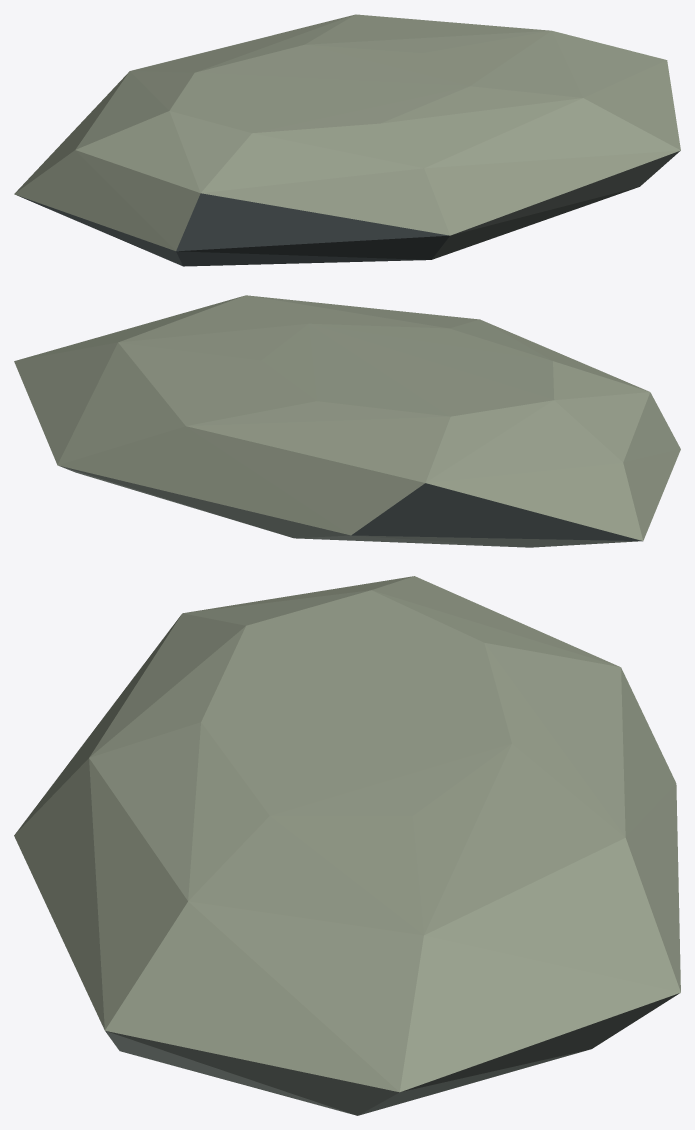
File: TW_ROCK_FLAT_SLAB_A_LOD0.glb
3 renders of one model, top to bottom at view 1: azimuth 30°, elevation 25°; view 2: azimuth 150°, elevation 25°; view 3: azimuth 270°, elevation 25°, orthographic. The views are drawn at different scales.
Visible parts, largest first — view 1: TW_ROCK_FLAT_SLAB_A_LOD0; view 2: TW_ROCK_FLAT_SLAB_A_LOD0; view 3: TW_ROCK_FLAT_SLAB_A_LOD0.
Part boxes in pixels (x1,y1,x2,y2): TW_ROCK_FLAT_SLAB_A_LOD0: (14,14,680,266); TW_ROCK_FLAT_SLAB_A_LOD0: (14,295,680,547); TW_ROCK_FLAT_SLAB_A_LOD0: (14,576,680,1115).
Size of the model in its own units: 1.42 by 0.2399 by 0.8535.
Materials: 1 (1 with a texture image).
